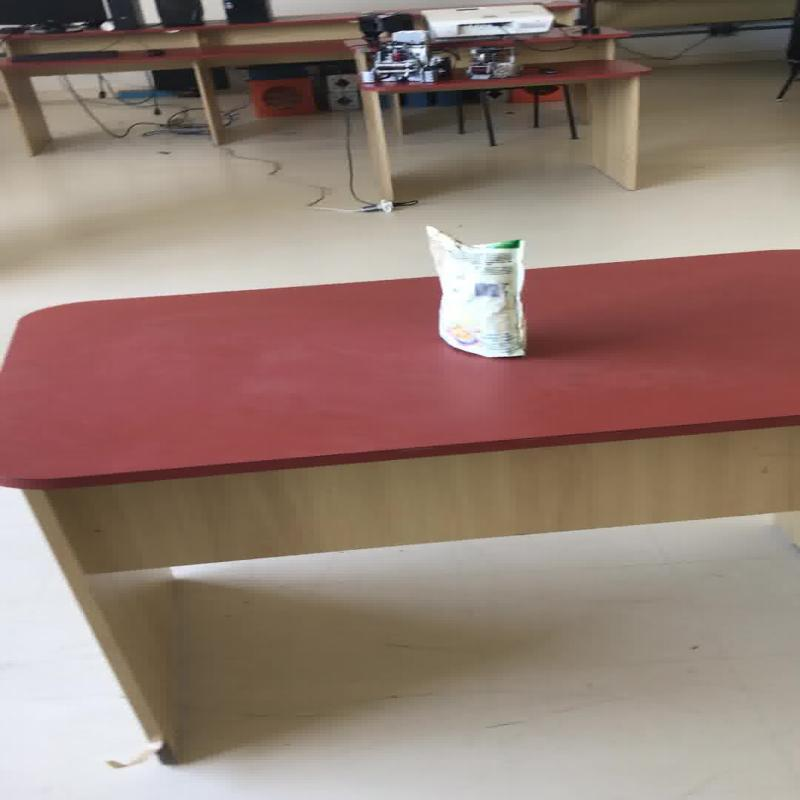corn flakes: (422, 224, 528, 358)
